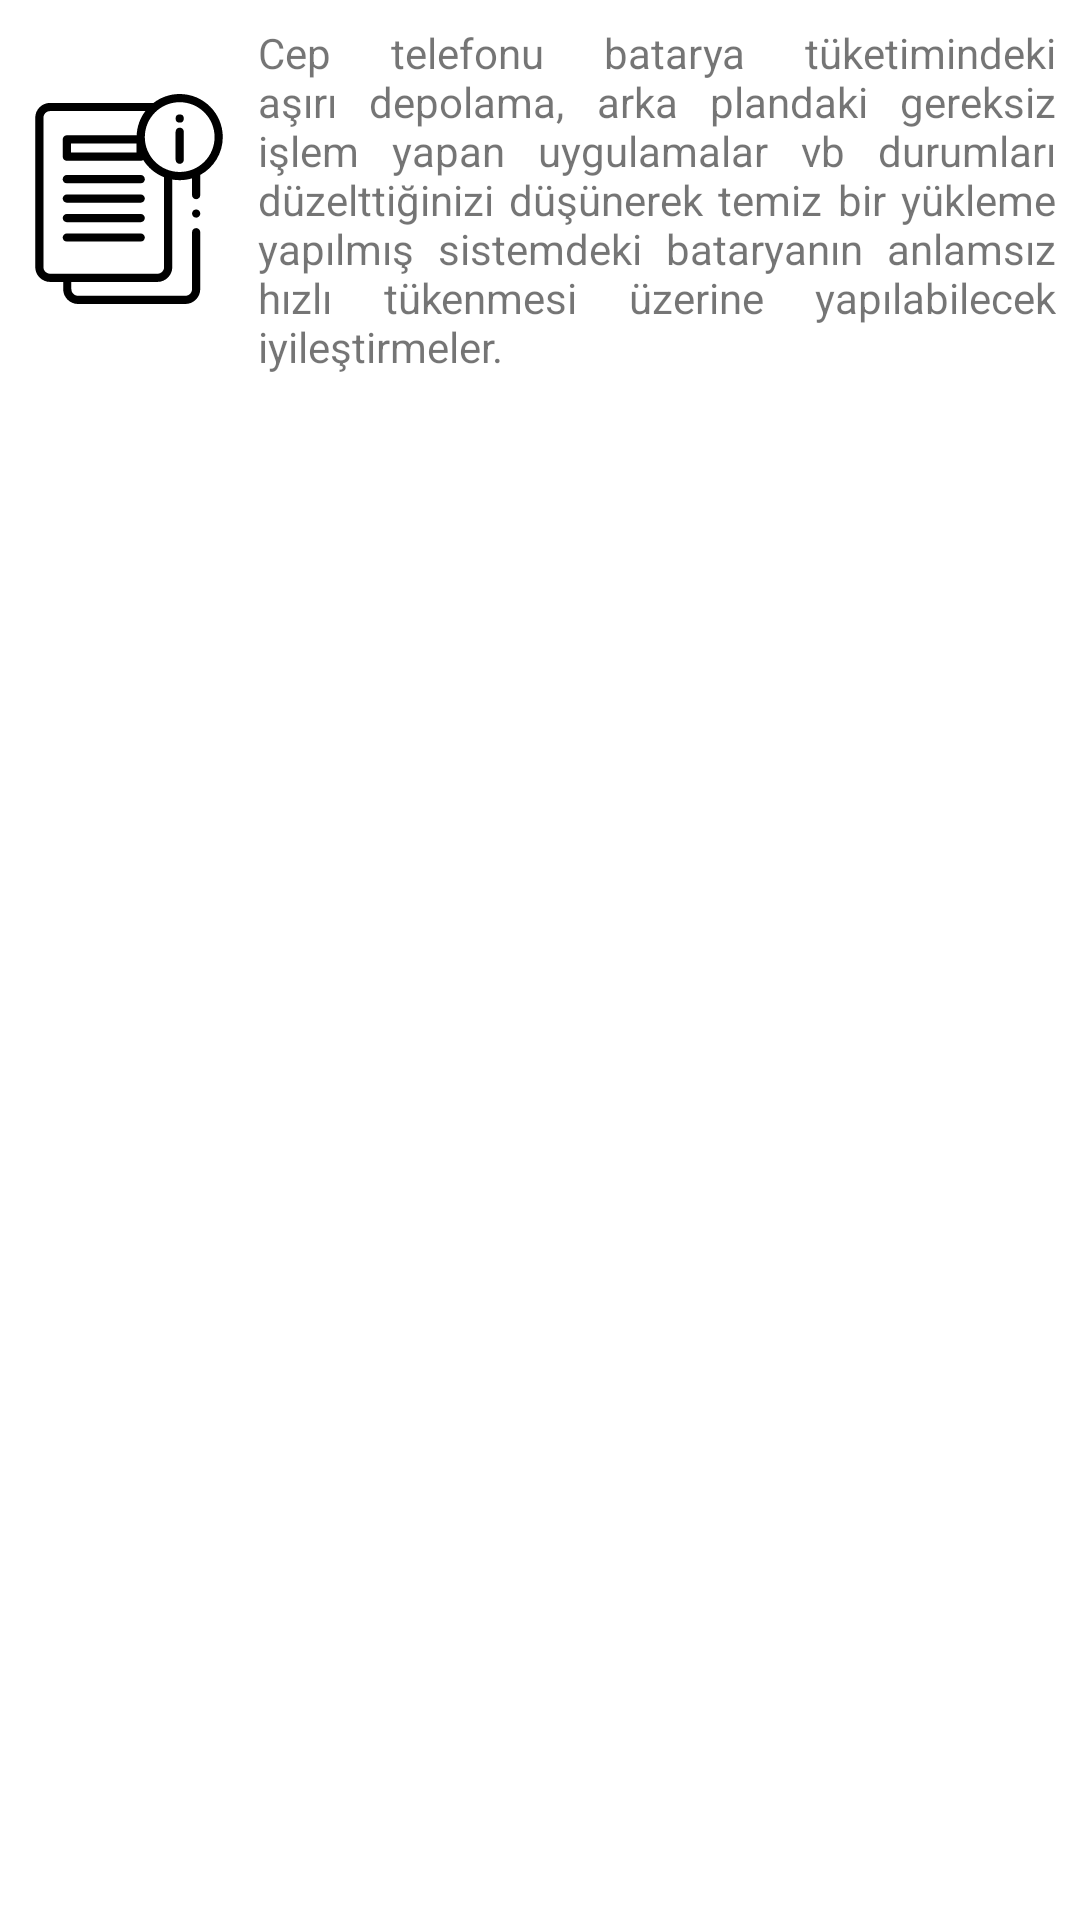

Icon bounding boxes for this 1080 × 1920 phone screenshot, format (x1, y1, x2, y2):
file: (35, 94, 223, 304)
